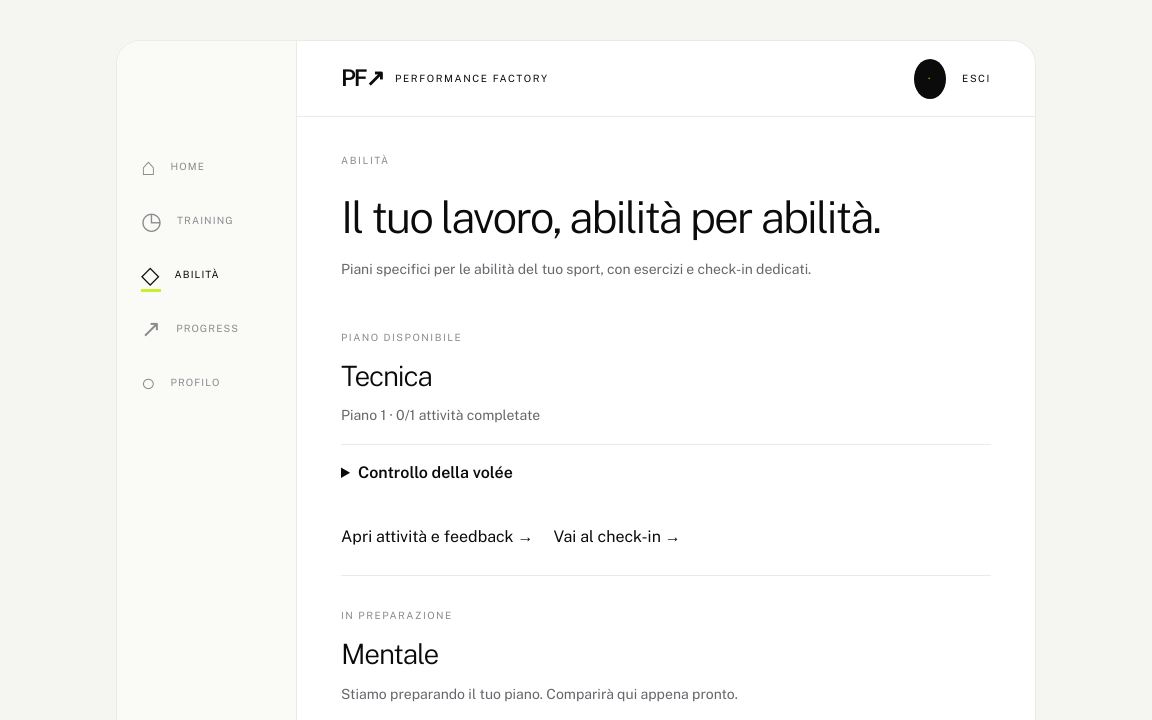
Test: exposes every ability, published exercises and the matching check-in
Click the heading "Controllo della volée".
click(435, 473)  # box [358, 464, 513, 482]
(page scrolled)
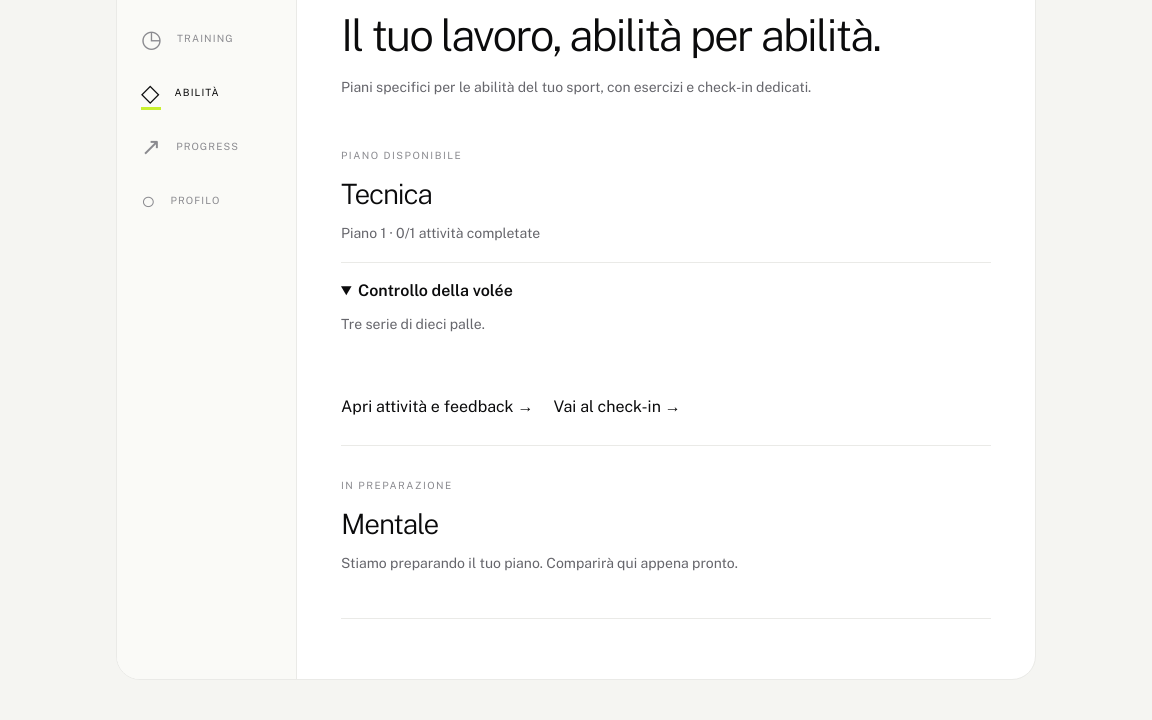
expect the text "Stiamo preparando il tuo piano. Comparirà qui appena pronto." is shown: met, box [341, 555, 738, 571]
expect the text "Tre serie di dieci palle." is shown: met, box [341, 316, 485, 332]
